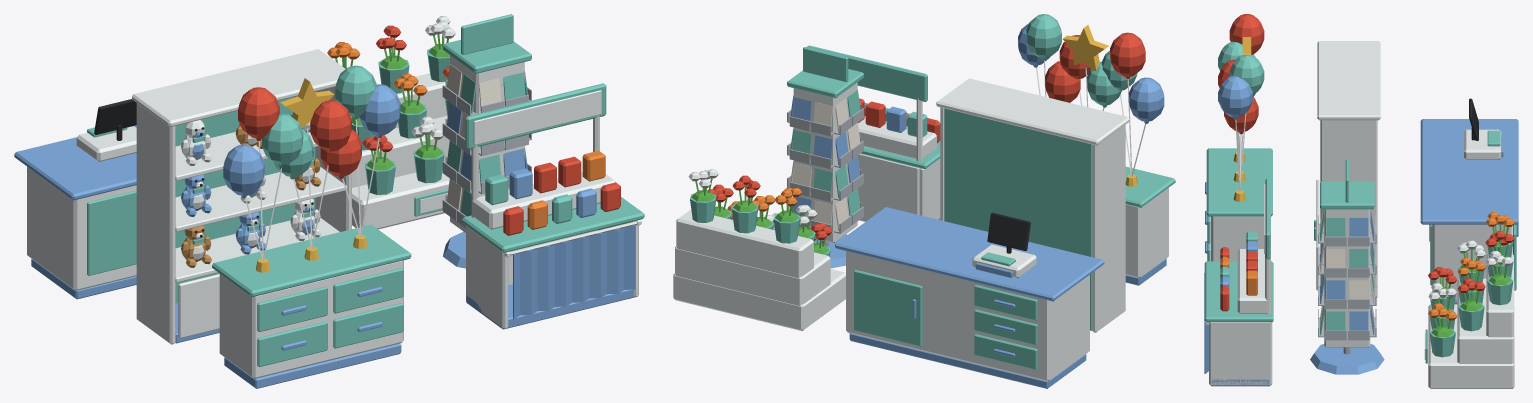
The model's file is hospital-gift-shop-set.glb.
The picture shows the model from 3 angles, left to right: view 1: azimuth 30°, elevation 25°; view 2: azimuth 150°, elevation 25°; view 3: azimuth 270°, elevation 25°; orthographic projection. The views are drawn at different scales.
Visible parts, largest first — view 1: Shelf_TeddyBears, Shelf_Balloons, SnackStand, Counter, FlowerBucketStand, Spinner, Curtain, Door_L, Drawer_L, Drawer_L2, Drawer_R, Drawer_R2 (+1 smaller); view 2: Shelf_TeddyBears, Counter, FlowerBucketStand, Shelf_Balloons, Spinner, SnackStand, Door, Drawer_2, Drawer_3, Drawer_1; view 3: Counter, FlowerBucketStand, Shelf_Balloons, SnackStand, Spinner, Shelf_TeddyBears, CardRack, Curtain.
Boxes of the visible parts, x1=… form: Shelf_TeddyBears: x1=132, y1=49, x2=351, y2=344; Shelf_Balloons: x1=212, y1=65, x2=411, y2=388; SnackStand: x1=462, y1=83, x2=644, y2=329; Counter: x1=14, y1=99, x2=136, y2=299; FlowerBucketStand: x1=327, y1=16, x2=455, y2=229; Spinner: x1=442, y1=14, x2=531, y2=232; Curtain: x1=510, y1=221, x2=637, y2=318; Door_L: x1=178, y1=274, x2=219, y2=338; Drawer_L: x1=257, y1=286, x2=327, y2=331; Drawer_L2: x1=257, y1=321, x2=327, y2=366; Drawer_R: x1=333, y1=268, x2=403, y2=313; Drawer_R2: x1=333, y1=303, x2=403, y2=348; Shelf_TeddyBears: x1=936, y1=78, x2=1129, y2=332; Counter: x1=835, y1=207, x2=1104, y2=388; FlowerBucketStand: x1=673, y1=169, x2=845, y2=330; Shelf_Balloons: x1=1018, y1=14, x2=1175, y2=285; Spinner: x1=787, y1=47, x2=863, y2=242; SnackStand: x1=807, y1=45, x2=940, y2=221; Door: x1=854, y1=270, x2=922, y2=346; Drawer_2: x1=974, y1=309, x2=1037, y2=345; Drawer_3: x1=974, y1=334, x2=1037, y2=369; Drawer_1: x1=974, y1=285, x2=1037, y2=320; Counter: x1=1420, y1=98, x2=1518, y2=304; FlowerBucketStand: x1=1424, y1=212, x2=1514, y2=388; Shelf_Balloons: x1=1206, y1=14, x2=1272, y2=261; SnackStand: x1=1204, y1=178, x2=1273, y2=386; Spinner: x1=1318, y1=159, x2=1376, y2=347; Shelf_TeddyBears: x1=1317, y1=41, x2=1380, y2=297; CardRack: x1=1310, y1=344, x2=1384, y2=374; Curtain: x1=1204, y1=273, x2=1208, y2=373.
Bounding box in the file's own units: 14.66 × 8.78 × 10.95.
